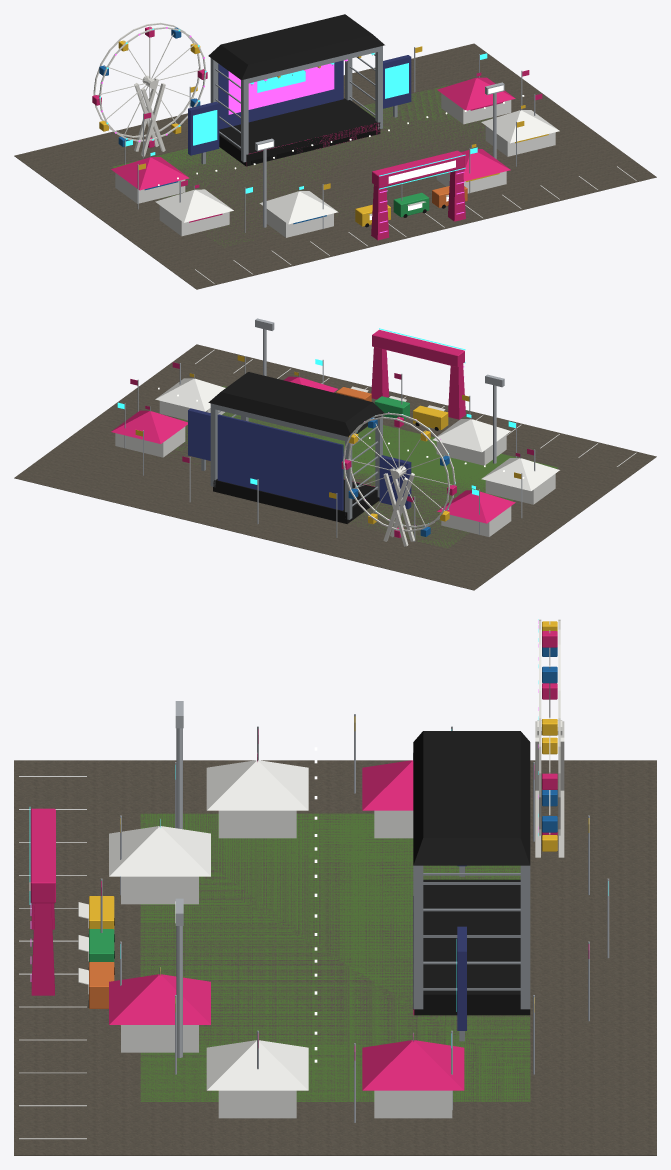
File: OT_FestivalHub.glb
3 renders of one model, top to bottom at view 1: azimuth 30°, elevation 25°; view 2: azimuth 150°, elevation 25°; view 3: azimuth 270°, elevation 25°, orthographic. The views are drawn at different scales.
Visible parts, largest first — view 1: OT_FestivalHub_Pavement, OT_FestivalHub_TentWhite__f2f2ee, OT_FestivalHub_FestMagenta__e0287a, OT_FestivalHub_StageRoof__1a1a1a, OT_FestivalHub_Stage__1a1a1a, OT_FestivalHub_FestGrass__567d3a, OT_FestivalHub_Truss__9aa0a6, OT_FestivalHub_Wheel__f0efe9, OT_FestivalHub_ScreenGlow__ff3fb4, OT_FestivalHub_LEDScreen__1b1f3a, OT_FestivalHub_Galv__b4b9bf, OT_FestivalHub_SideScreen__1b1f3a (+8 smaller); view 2: OT_FestivalHub_Pavement, OT_FestivalHub_TentWhite__f2f2ee, OT_FestivalHub_LEDScreen__1b1f3a, OT_FestivalHub_FestMagenta__e0287a, OT_FestivalHub_FestGrass__567d3a, OT_FestivalHub_StageRoof__1a1a1a, OT_FestivalHub_Wheel__f0efe9, OT_FestivalHub_Truss__9aa0a6, OT_FestivalHub_Stage__1a1a1a, OT_FestivalHub_SideScreen__1b1f3a, OT_FestivalHub_Galv__b4b9bf, OT_FestivalHub_Truckf6c22c__f6c22c (+3 smaller); view 3: OT_FestivalHub_Pavement, OT_FestivalHub_FestGrass__567d3a, OT_FestivalHub_TentWhite__f2f2ee, OT_FestivalHub_FestMagenta__e0287a, OT_FestivalHub_StageRoof__1a1a1a, OT_FestivalHub_Stage__1a1a1a, OT_FestivalHub_Truss__9aa0a6, OT_FestivalHub_Galv__b4b9bf, OT_FestivalHub_Wheel__f0efe9, OT_FestivalHub_FestYellow__f6c22c, OT_FestivalHub_PaintWhite__f0f0ee, OT_FestivalHub_SideScreen__1b1f3a (+4 smaller).
Boxes of the visible parts, x1,y1,x2,y2 form: OT_FestivalHub_Pavement: (14, 43, 656, 289); OT_FestivalHub_TentWhite__f2f2ee: (115, 93, 559, 237); OT_FestivalHub_FestMagenta__e0287a: (92, 26, 542, 240); OT_FestivalHub_StageRoof__1a1a1a: (208, 14, 384, 80); OT_FestivalHub_Stage__1a1a1a: (219, 98, 380, 166); OT_FestivalHub_FestGrass__567d3a: (113, 85, 492, 247); OT_FestivalHub_Truss__9aa0a6: (150, 46, 520, 191); OT_FestivalHub_Wheel__f0efe9: (93, 22, 206, 156); OT_FestivalHub_ScreenGlow__ff3fb4: (228, 63, 334, 114); OT_FestivalHub_LEDScreen__1b1f3a: (218, 60, 343, 129); OT_FestivalHub_Galv__b4b9bf: (124, 47, 535, 232); OT_FestivalHub_SideScreen__1b1f3a: (188, 55, 411, 155); OT_FestivalHub_Pavement: (14, 344, 656, 590); OT_FestivalHub_TentWhite__f2f2ee: (115, 378, 559, 536); OT_FestivalHub_LEDScreen__1b1f3a: (217, 414, 343, 510); OT_FestivalHub_FestMagenta__e0287a: (111, 329, 533, 537); OT_FestivalHub_FestGrass__567d3a: (171, 386, 558, 548); OT_FestivalHub_StageRoof__1a1a1a: (208, 372, 384, 436); OT_FestivalHub_Wheel__f0efe9: (342, 412, 455, 546); OT_FestivalHub_Truss__9aa0a6: (150, 373, 520, 519); OT_FestivalHub_Stage__1a1a1a: (213, 479, 379, 523); OT_FestivalHub_SideScreen__1b1f3a: (188, 408, 411, 509); OT_FestivalHub_Galv__b4b9bf: (124, 318, 535, 541); OT_FestivalHub_Truckf6c22c__f6c22c: (413, 405, 448, 430); OT_FestivalHub_Pavement: (14, 760, 656, 1155); OT_FestivalHub_FestGrass__567d3a: (140, 813, 530, 1101); OT_FestivalHub_TentWhite__f2f2ee: (109, 760, 452, 1118); OT_FestivalHub_FestMagenta__e0287a: (30, 631, 589, 1090); OT_FestivalHub_StageRoof__1a1a1a: (413, 731, 530, 865); OT_FestivalHub_Stage__1a1a1a: (414, 879, 530, 1015); OT_FestivalHub_Truss__9aa0a6: (159, 752, 530, 1041); OT_FestivalHub_Galv__b4b9bf: (100, 701, 609, 1122); OT_FestivalHub_Wheel__f0efe9: (535, 619, 564, 857); OT_FestivalHub_FestYellow__f6c22c: (120, 621, 589, 1025); OT_FestivalHub_PaintWhite__f0f0ee: (19, 776, 86, 1139); OT_FestivalHub_SideScreen__1b1f3a: (457, 865, 466, 1030).
Size of the model in its own units: 96 by 25.15 by 66.
Materials: 30 (1 with a texture image).
